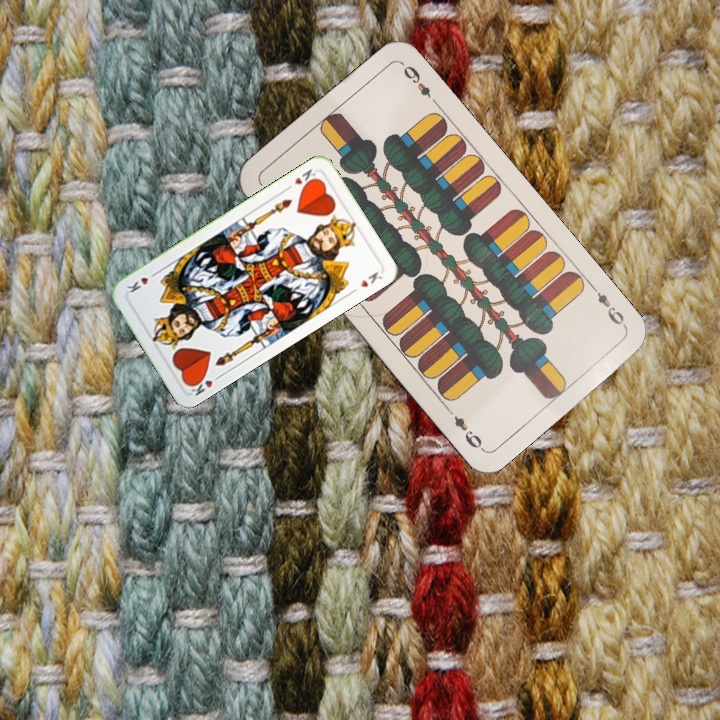E9: (587, 281, 629, 331)
HK: (184, 370, 225, 399), (290, 165, 320, 191)
